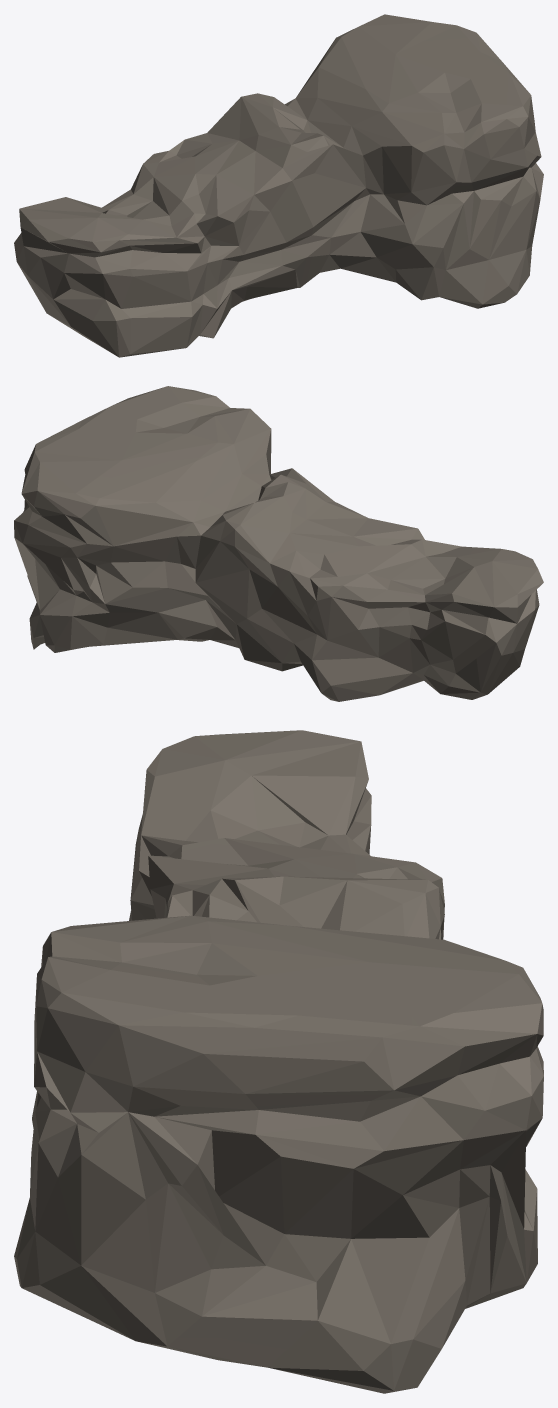
File: SM_Env_Rock_Large_08.glb
3 views of the same model, one above another, from view 1: azimuth 30°, elevation 25°; view 2: azimuth 150°, elevation 25°; view 3: azimuth 270°, elevation 25° (orthographic). The views are drawn at different scales.
Visible parts, largest first — view 1: SM_Env_Rock_Large_08; view 2: SM_Env_Rock_Large_08; view 3: SM_Env_Rock_Large_08.
Part boxes in pixels (x1,y1,x2,y2): SM_Env_Rock_Large_08: (14,14,543,357); SM_Env_Rock_Large_08: (14,386,543,701); SM_Env_Rock_Large_08: (14,730,543,1393).
Bounding box in the file's own units: 0.1067 × 0.0434 × 0.0568.
Materials: 1 (1 with a texture image).
